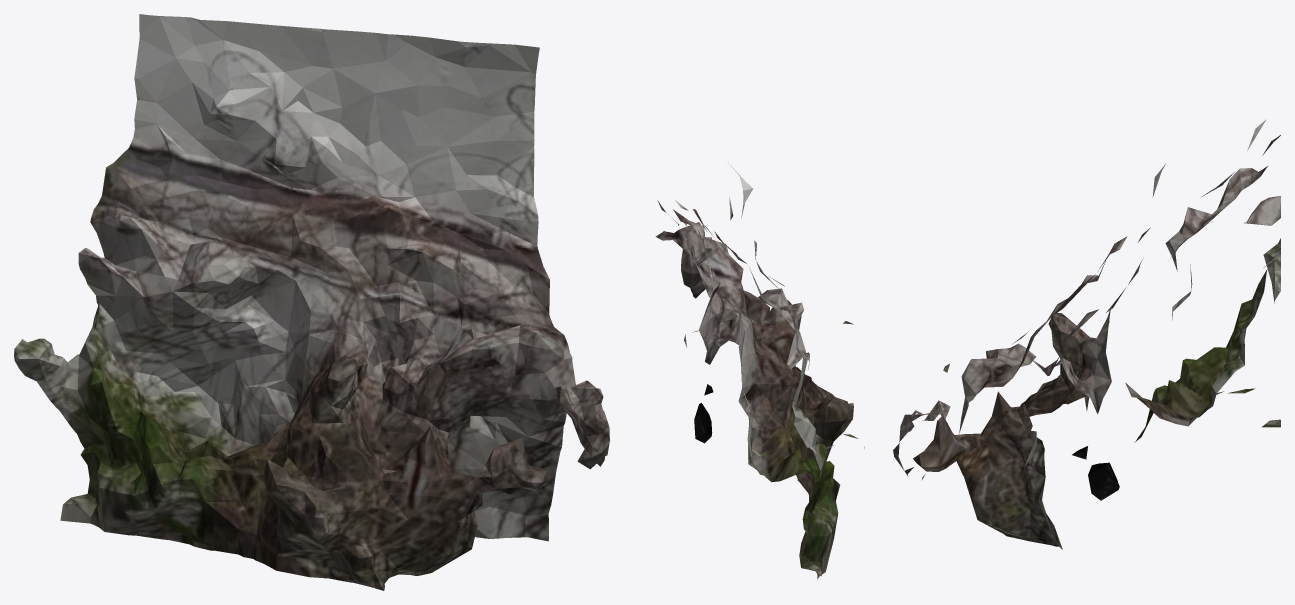
3 renders of one model, left to right at view 1: azimuth 30°, elevation 25°; view 2: azimuth 150°, elevation 25°; view 3: azimuth 270°, elevation 25°, orthographic. The views are drawn at different scales.
Size of the model in its own units: 1.41 by 1.67 by 1.29.
3 materials, 3 textured.
